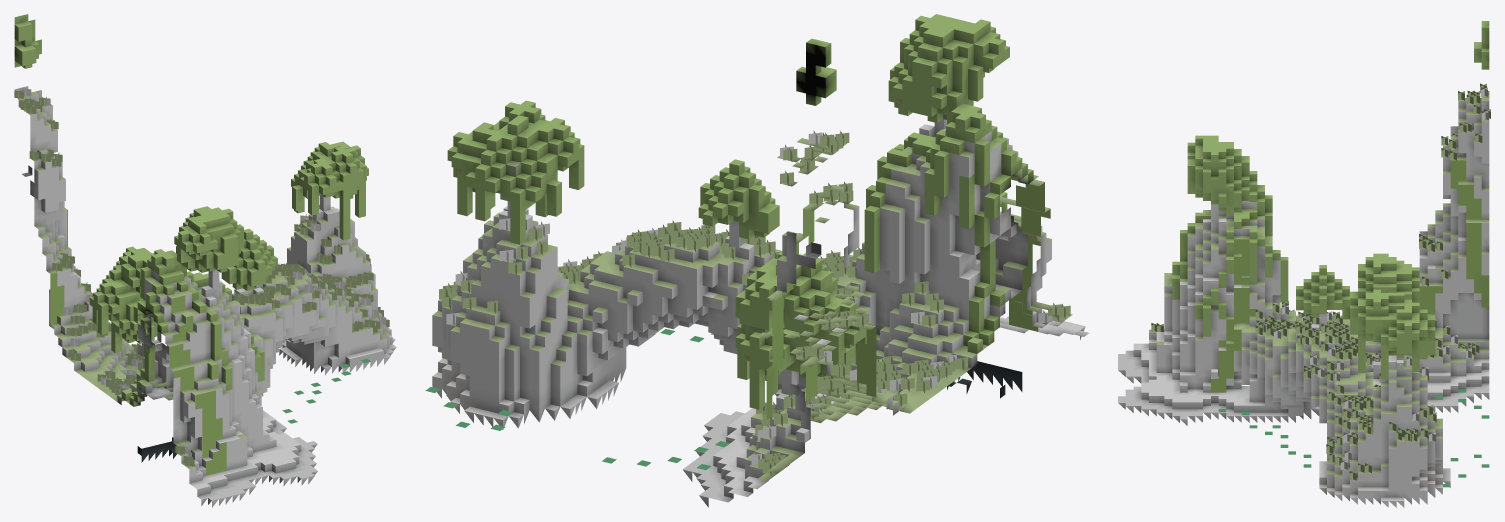
3 views of the same model, side by side, from view 1: azimuth 30°, elevation 25°; view 2: azimuth 150°, elevation 25°; view 3: azimuth 270°, elevation 25° (orthographic). The views are drawn at different scales.
Visible parts, largest first — view 1: recorte, opaco; view 2: recorte, opaco; view 3: recorte, opaco.
Boxes of the visible parts, x1,y1,x2,y2 form: recorte: [14, 14, 389, 476]; opaco: [22, 97, 396, 507]; recorte: [425, 14, 1072, 481]; opaco: [432, 119, 1089, 507]; recorte: [1149, 21, 1490, 487]; opaco: [1118, 108, 1489, 507].
Bounding box in the file's own units: 46.2 × 49 × 48.2.
